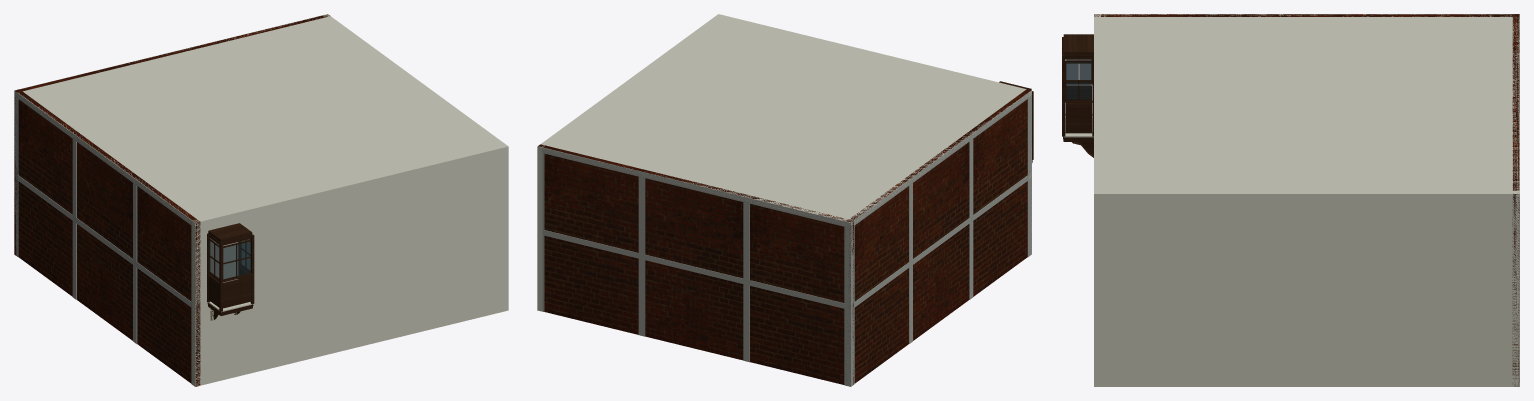
File: building.glb
3 views of the same model, side by side, from view 1: azimuth 30°, elevation 25°; view 2: azimuth 150°, elevation 25°; view 3: azimuth 270°, elevation 25° (orthographic). The views are drawn at different scales.
Parts seen in each view (by area): view 1: roof/house:0/roof_slab#0001, house:0/edge0/z0/house:0/edge0/z0/wall_0_0, house:0/edge3/z0/house:0/edge3/z0/wall_0_0, house:0/edge2/z0/house:0/edge2/z0/wall_0_0, house:0/edge3/z0/house:0/edge3/z0/beam_0_0, house:0/edge3/z0/house:0/edge3/z0/beam_1_0, house:0/edge1/z0/house:0/edge1/z0/wall_0_0, balcony/sample/balcony_panel#0002, balcony/sample/balcony_cover#0001, balcony/sample/balcony_enclosure_glass#0003, balcony/sample/balcony_enclosure_glass#0004; view 2: roof/house:0/roof_slab#0001, house:0/edge2/z0/house:0/edge2/z0/wall_0_0, house:0/edge3/z0/house:0/edge3/z0/wall_0_0, house:0/edge1/z0/house:0/edge1/z0/wall_0_0, house:0/edge2/z0/house:0/edge2/z0/beam_0_0, house:0/edge2/z0/house:0/edge2/z0/beam_1_0, house:0/edge3/z0/house:0/edge3/z0/beam_0_0, house:0/edge0/z0/house:0/edge0/z0/wall_0_0, house:0/edge3/z0/house:0/edge3/z0/beam_1_0, house:0/edge2/z0/house:0/edge2/z0/column_2_0, house:0/edge2/z0/house:0/edge2/z0/column_1_1, house:0/edge2/z0/house:0/edge2/z0/column_2_1 (+3 smaller); view 3: house:0/edge1/z0/house:0/edge1/z0/wall_0_0, roof/house:0/roof_slab#0001, house:0/edge0/z0/house:0/edge0/z0/wall_0_0, house:0/edge2/z0/house:0/edge2/z0/wall_0_0, house:0/edge3/z0/house:0/edge3/z0/wall_0_0, balcony/sample/balcony_panel#0003, balcony/sample/balcony_cover#0001, balcony/sample/balcony_enclosure_glass#0006, balcony/sample/balcony_enclosure_glass#0005, balcony/sample/balcony_panel#0001.
Boxes of the visible parts, x1,y1,x2,y2 form: roof/house:0/roof_slab#0001: (16, 15, 507, 225); house:0/edge0/z0/house:0/edge0/z0/wall_0_0: (192, 144, 508, 386); house:0/edge3/z0/house:0/edge3/z0/wall_0_0: (17, 89, 200, 386); house:0/edge2/z0/house:0/edge2/z0/wall_0_0: (14, 14, 329, 255); house:0/edge3/z0/house:0/edge3/z0/beam_0_0: (14, 173, 195, 309); house:0/edge3/z0/house:0/edge3/z0/beam_1_0: (14, 91, 195, 228); house:0/edge1/z0/house:0/edge1/z0/wall_0_0: (323, 14, 508, 311); balcony/sample/balcony_panel#0002: (223, 276, 251, 308); balcony/sample/balcony_cover#0001: (208, 223, 252, 242); balcony/sample/balcony_enclosure_glass#0003: (223, 245, 236, 279); balcony/sample/balcony_enclosure_glass#0004: (237, 242, 250, 275); roof/house:0/roof_slab#0001: (540, 14, 1031, 225); house:0/edge2/z0/house:0/edge2/z0/wall_0_0: (538, 144, 853, 384); house:0/edge3/z0/house:0/edge3/z0/wall_0_0: (846, 89, 1030, 383); house:0/edge1/z0/house:0/edge1/z0/wall_0_0: (537, 14, 721, 311); house:0/edge2/z0/house:0/edge2/z0/beam_0_0: (542, 230, 851, 310); house:0/edge2/z0/house:0/edge2/z0/beam_1_0: (538, 146, 851, 228); house:0/edge3/z0/house:0/edge3/z0/beam_0_0: (850, 172, 1031, 309); house:0/edge0/z0/house:0/edge0/z0/wall_0_0: (716, 14, 1031, 253); house:0/edge3/z0/house:0/edge3/z0/beam_1_0: (850, 90, 1031, 227); house:0/edge2/z0/house:0/edge2/z0/column_2_0: (638, 177, 645, 254); house:0/edge2/z0/house:0/edge2/z0/column_1_1: (844, 227, 851, 304); house:0/edge2/z0/house:0/edge2/z0/column_2_1: (638, 259, 645, 336); house:0/edge1/z0/house:0/edge1/z0/wall_0_0: (1094, 191, 1519, 386); roof/house:0/roof_slab#0001: (1094, 14, 1519, 198); house:0/edge0/z0/house:0/edge0/z0/wall_0_0: (1094, 14, 1100, 386); house:0/edge2/z0/house:0/edge2/z0/wall_0_0: (1512, 14, 1519, 386); house:0/edge3/z0/house:0/edge3/z0/wall_0_0: (1094, 14, 1519, 16); balcony/sample/balcony_panel#0003: (1065, 103, 1091, 133); balcony/sample/balcony_cover#0001: (1063, 34, 1093, 55); balcony/sample/balcony_enclosure_glass#0006: (1079, 62, 1091, 99); balcony/sample/balcony_enclosure_glass#0005: (1066, 62, 1077, 99); balcony/sample/balcony_panel#0001: (1066, 85, 1091, 103).
Size of the model in its own units: 12 by 6 by 12.89.
Materials: 5 (2 with a texture image).
